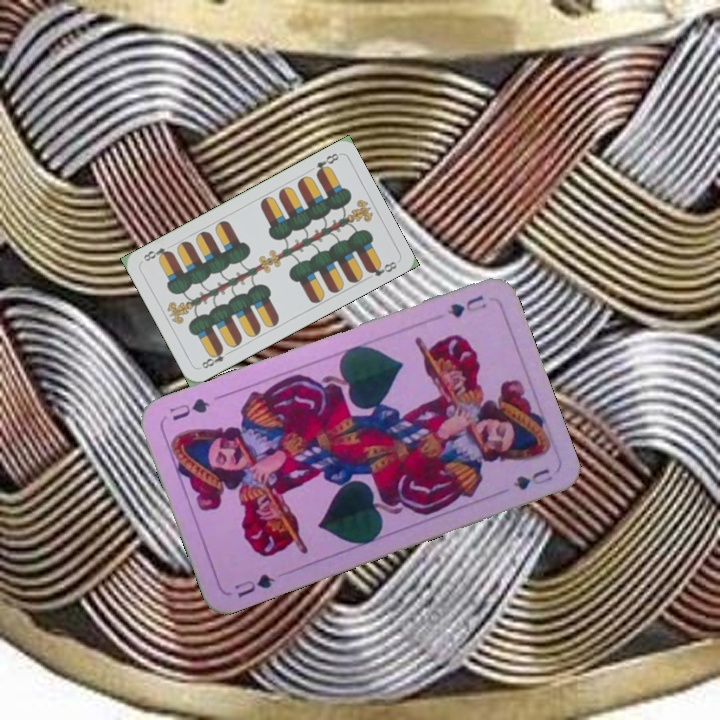E8: (198, 344, 234, 371), (312, 149, 341, 178)
GU: (230, 569, 278, 601), (443, 291, 490, 321)
